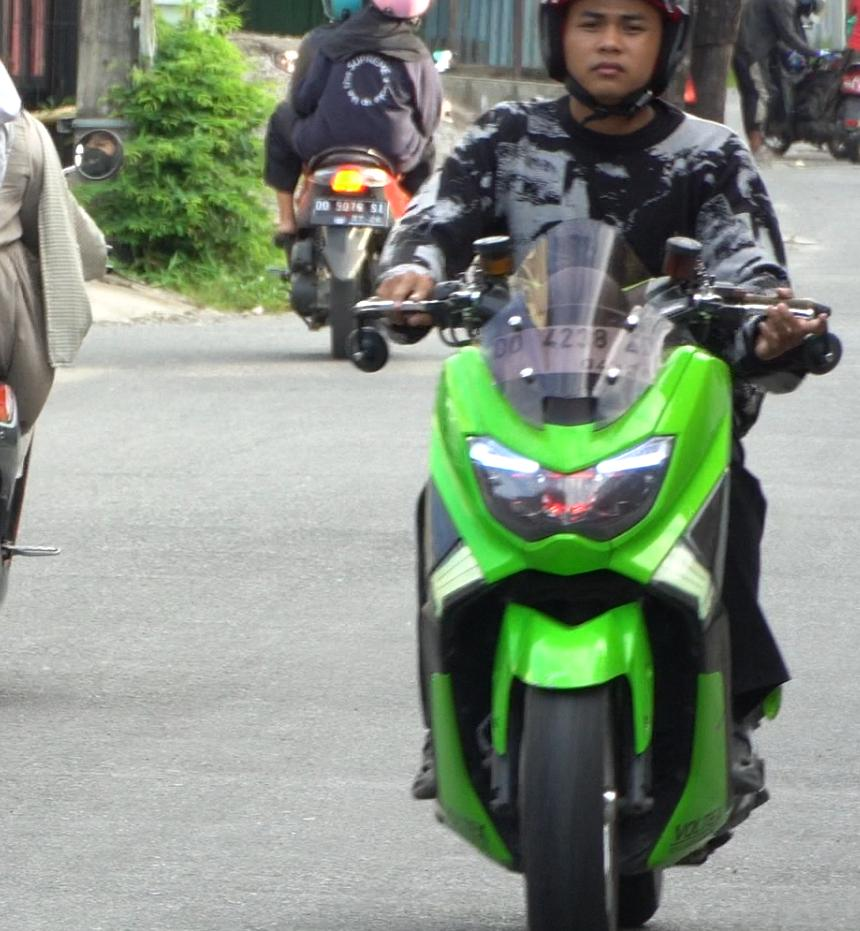number-plate: (477, 325, 671, 393)
